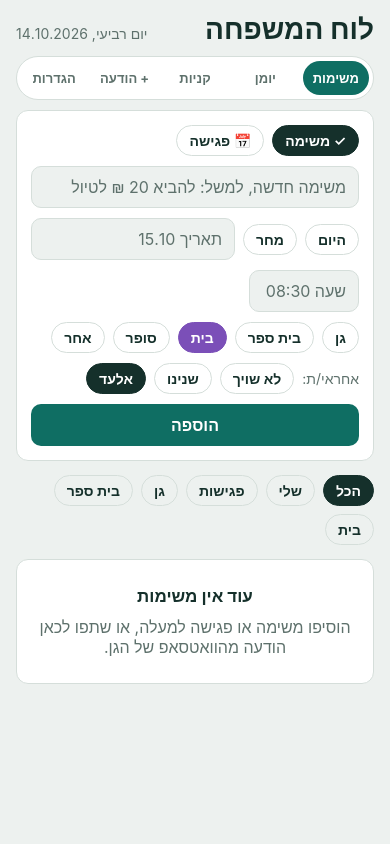
Test case: tasks tab: adding › default task: no date, category home, assigned to me
Expected: the text "+ הודעה" is shown, [100,70,149,86]
Type "לתקן את הברז" into the field with placeholder "משימה חדשה, למשל: להביא 20 ₪ לטיול".
click(195, 187); type("לתקן את הברז")  # box [31,166,359,208]
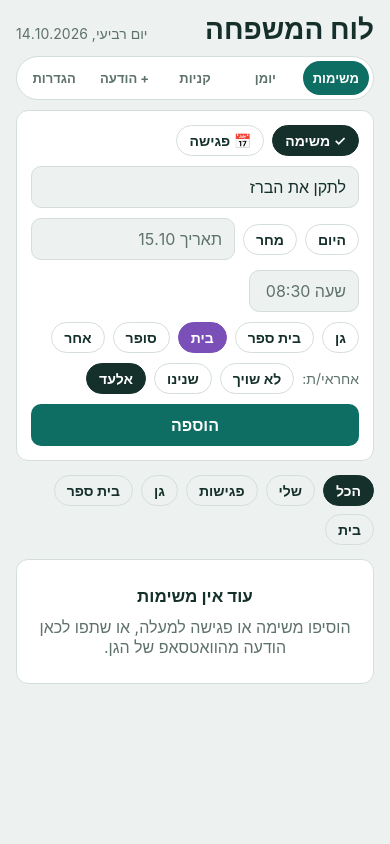
Click the button "הוספה".
click(195, 425)  # box [31,404,359,446]
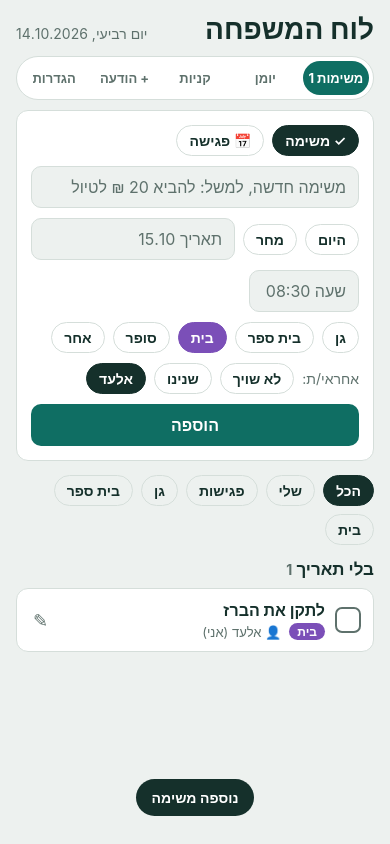
Expected: the text "בלי תאריך 1" is shown, [286,559,374,579]
